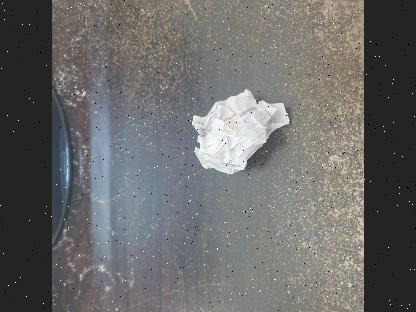Others: (190, 86, 290, 180)
